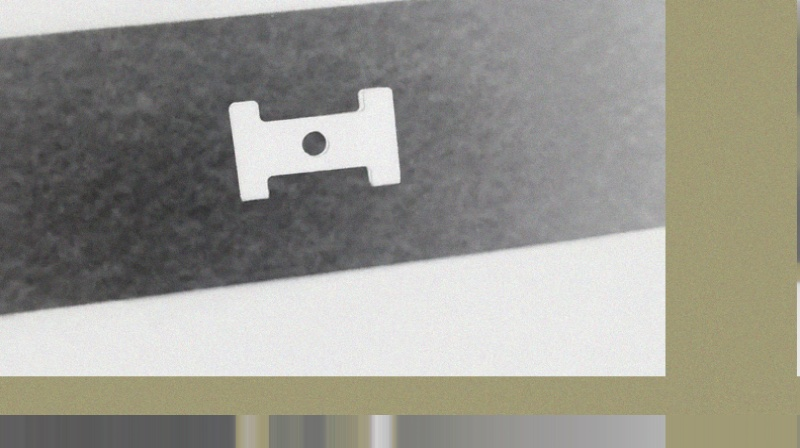O002: (222, 83, 405, 206)
